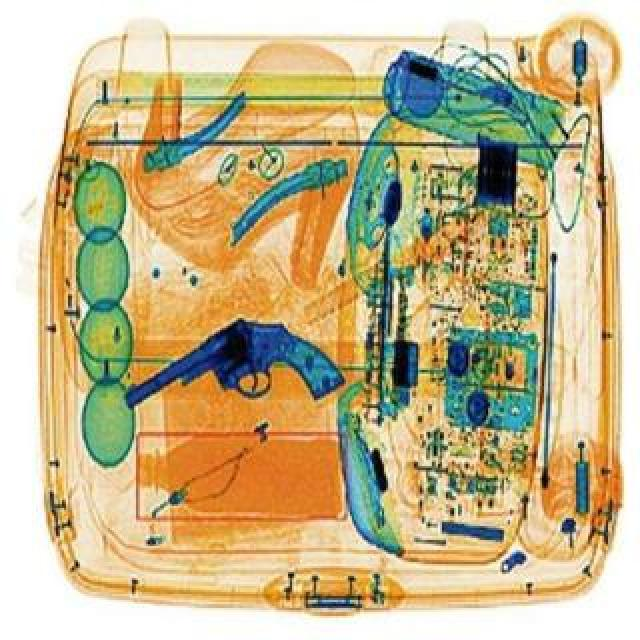gun: (120, 312, 348, 410)
